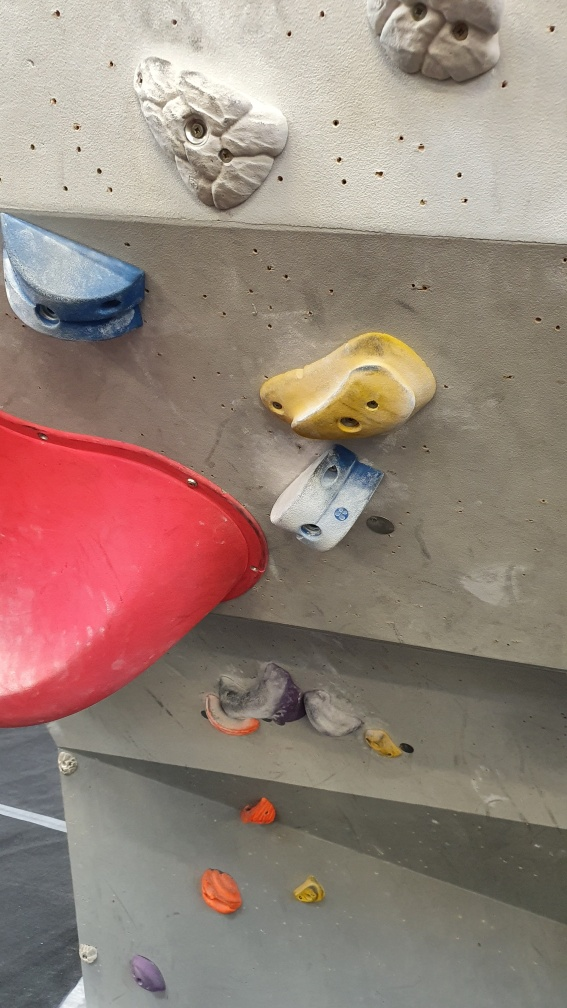Hand Start: (366, 511, 399, 539), (398, 741, 418, 755)
Jug: (125, 53, 297, 221), (216, 665, 305, 731)
Pinch: (1, 212, 154, 348), (268, 444, 388, 561)
